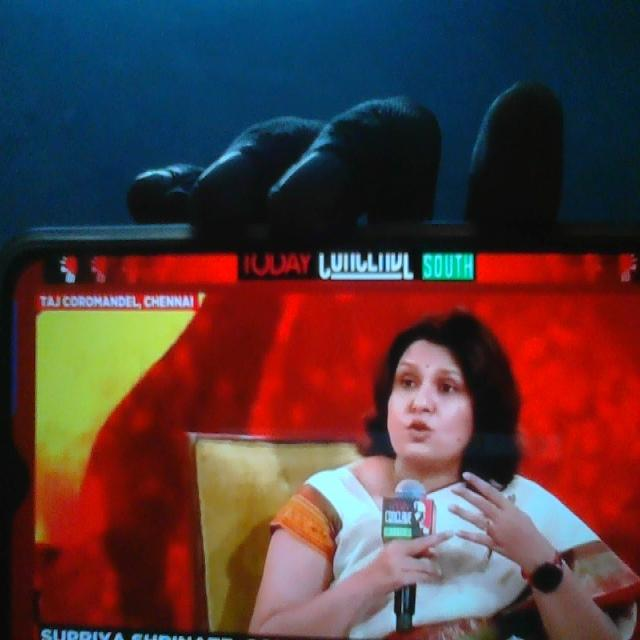fake: (387, 305, 483, 487)
